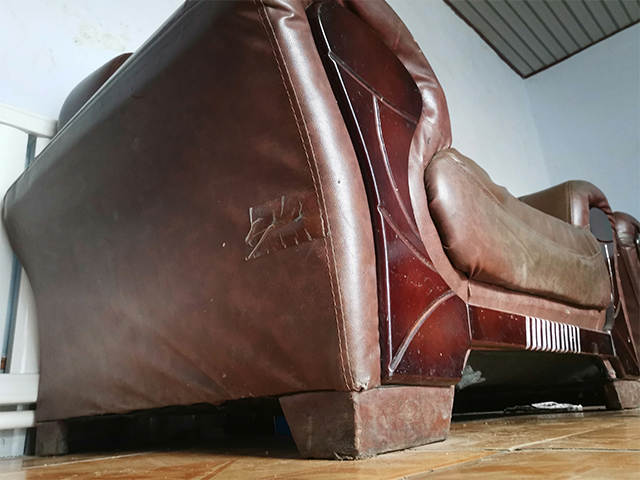sofa: (1, 1, 640, 462)
